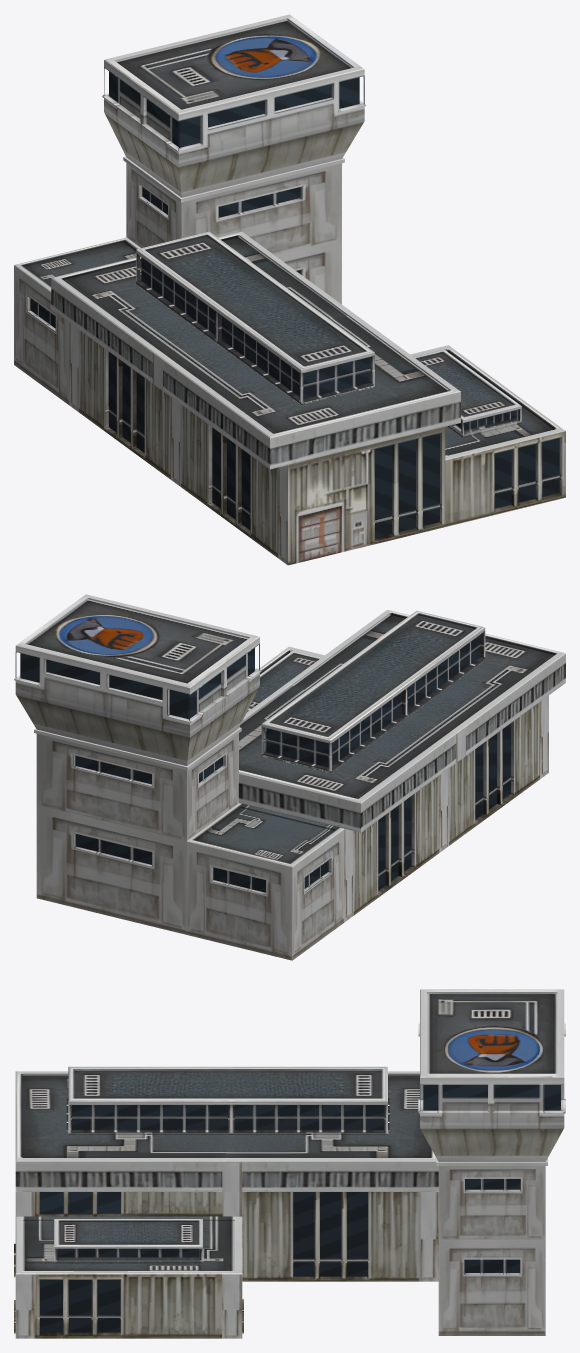
The model's file is s_hq_cad.glb.
3 views of the same model, one above another, from view 1: azimuth 30°, elevation 25°; view 2: azimuth 150°, elevation 25°; view 3: azimuth 270°, elevation 25° (orthographic). The views are drawn at different scales.
Visible parts, largest first — view 1: S_HQ; view 2: S_HQ; view 3: S_HQ.
Boxes of the visible parts, box(x1,y1,x2,y2) form: S_HQ: box(14, 14, 565, 565); S_HQ: box(14, 594, 565, 960); S_HQ: box(14, 989, 565, 1338).
Size of the model in its own units: 19.18 by 16.48 by 31.07.
Materials: 1 (1 with a texture image).
